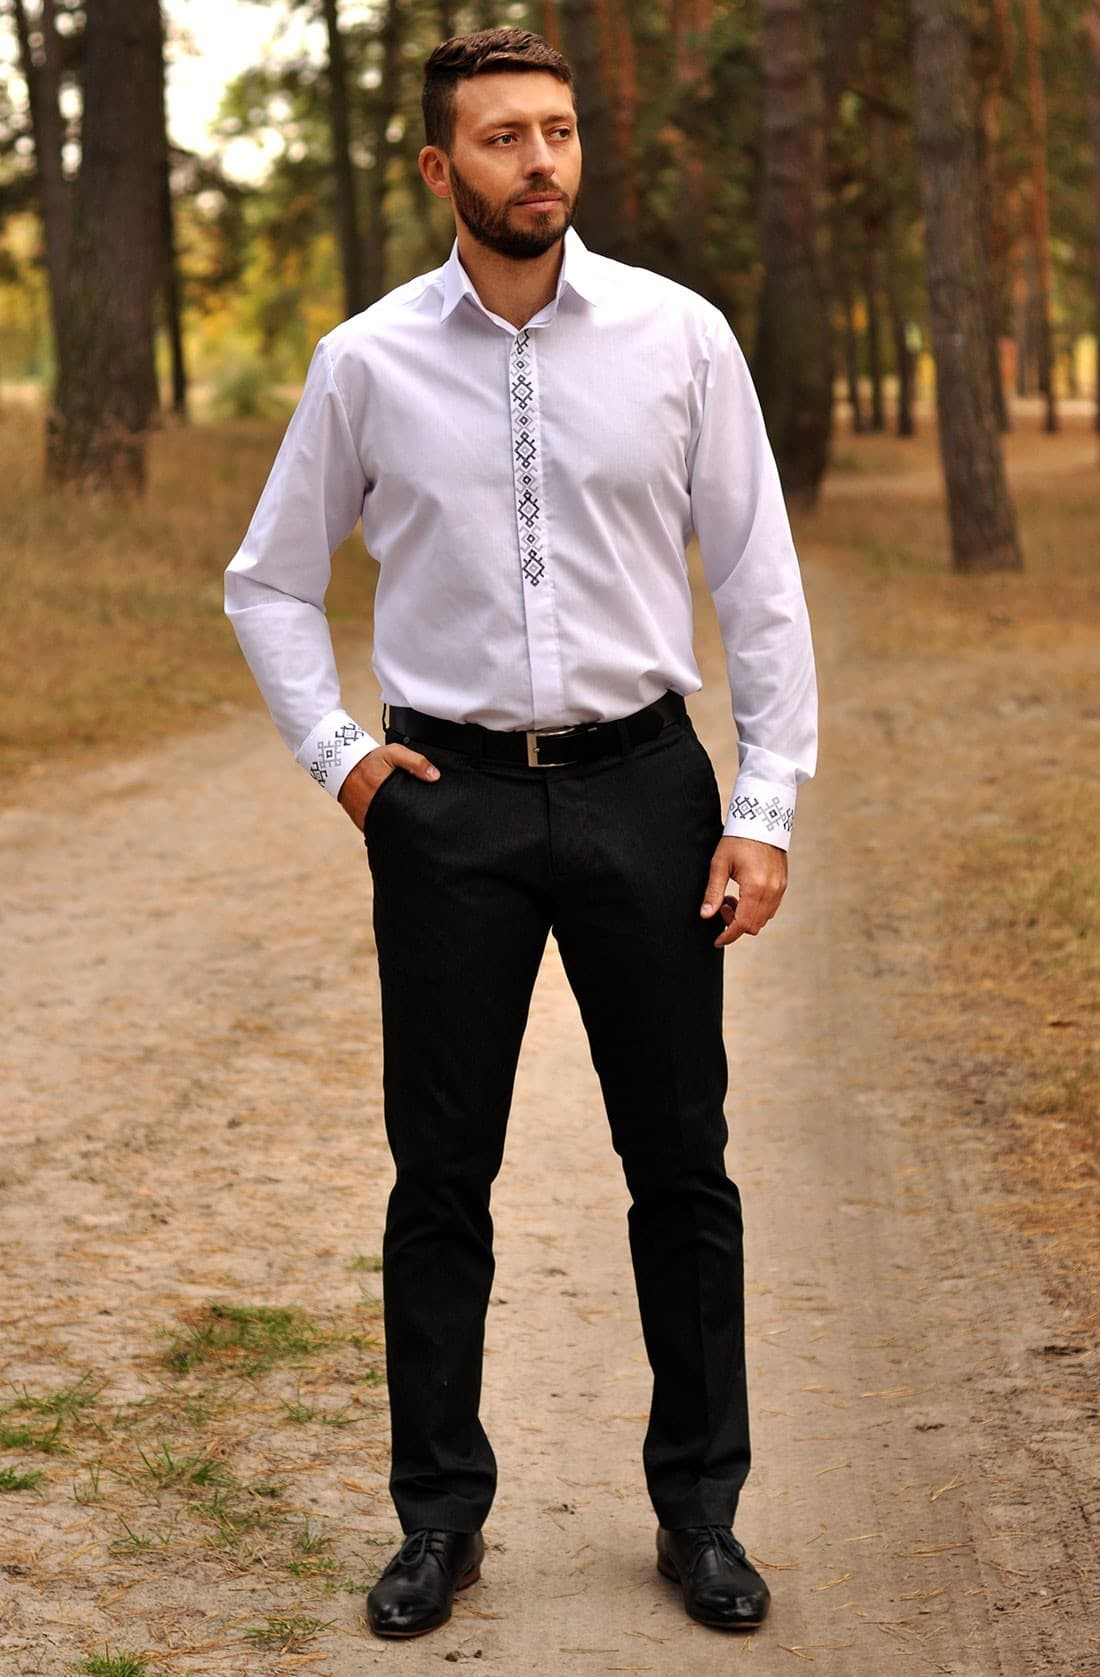F_belt: (365, 694, 690, 769)
F_dress pants: (333, 780, 797, 1508)
F_shirt: (239, 226, 823, 838)
